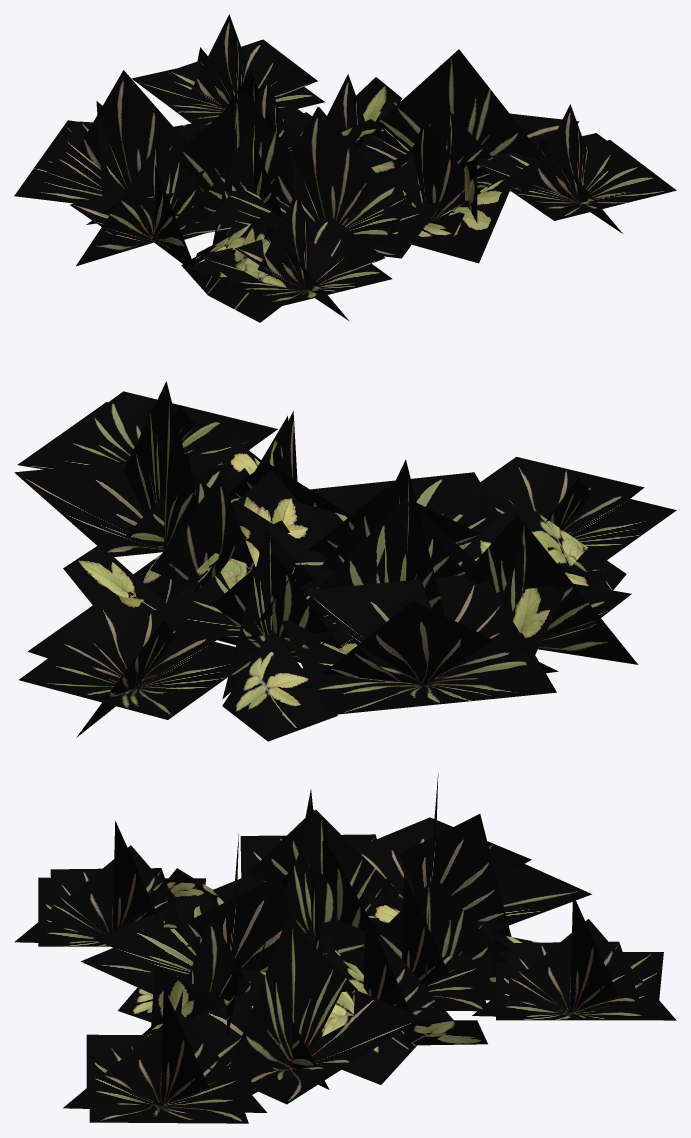
File: SM_Plant_Forest_02.fbx
The picture shows the model from 3 angles, top to bottom: view 1: azimuth 30°, elevation 25°; view 2: azimuth 150°, elevation 25°; view 3: azimuth 270°, elevation 25°; orthographic projection. The views are drawn at different scales.
Parts seen in each view (by area): view 1: SM_Plant_Forest_02; view 2: SM_Plant_Forest_02; view 3: SM_Plant_Forest_02.
Part boxes in pixels (x1,y1,x2,y2): SM_Plant_Forest_02: [14, 14, 676, 322]; SM_Plant_Forest_02: [14, 381, 676, 741]; SM_Plant_Forest_02: [14, 773, 676, 1123].
Size of the model in its own units: 107 by 103 by 30.14.
Materials: 1 (1 with a texture image).
